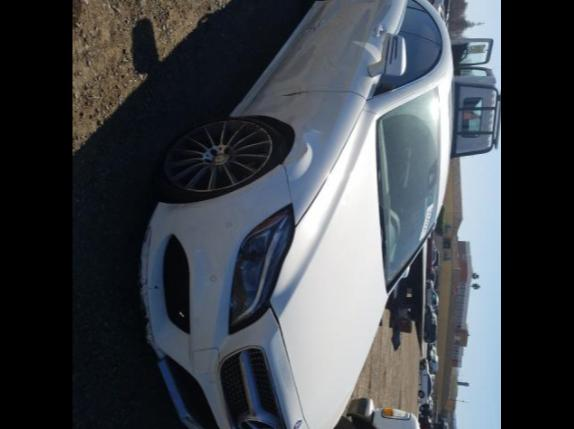Broken part: (264, 176, 328, 360), (158, 356, 206, 429), (268, 90, 322, 96)
Dent: (274, 26, 324, 82), (286, 128, 324, 200), (258, 84, 314, 112), (156, 202, 202, 210)
Paint chip: (138, 224, 164, 362)
Scratch: (304, 12, 328, 34)
